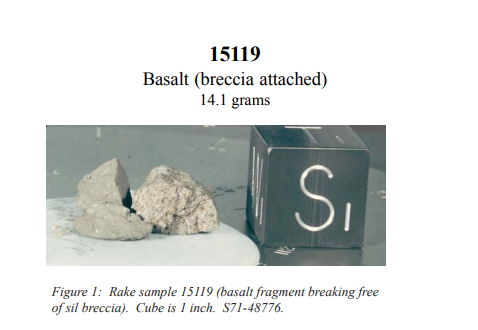Basalt: (76, 133, 217, 260)
